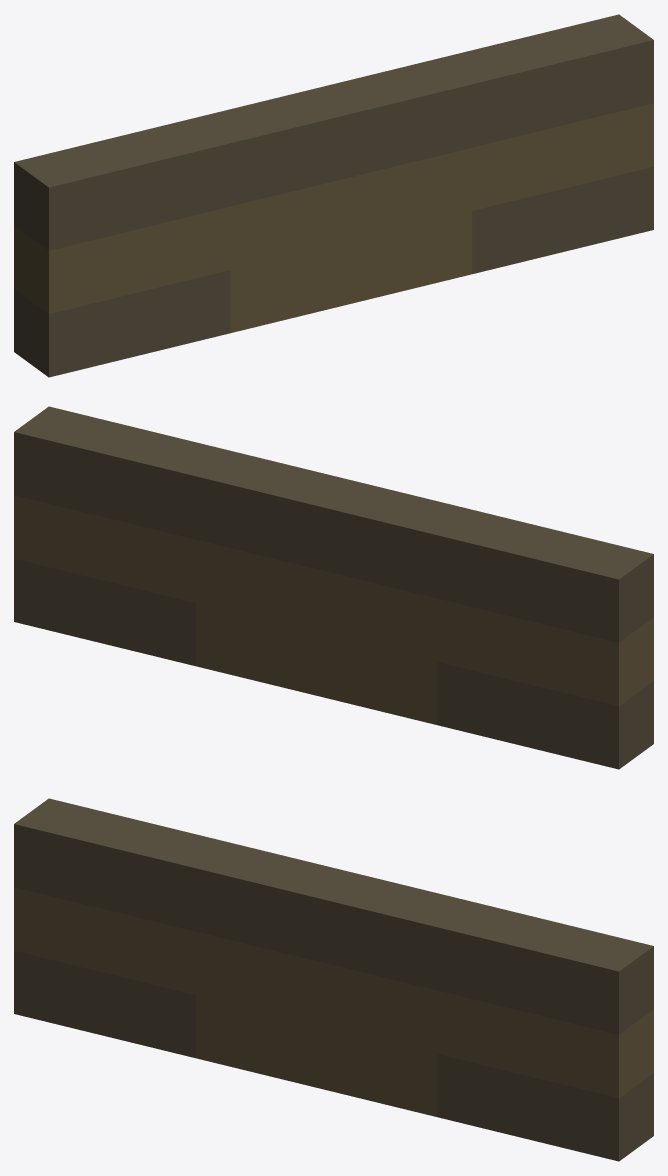
The model's file is scaffold_2_0.DAE.
3 views of the same model, one above another, from view 1: azimuth 30°, elevation 25°; view 2: azimuth 150°, elevation 25°; view 3: azimuth 330°, elevation 25° (orthographic).
Parts seen in each view (by area): view 1: scaffold_2_0; view 2: scaffold_2_0; view 3: scaffold_2_0.
Boxes of the visible parts, left/top/right/bottom form: scaffold_2_0: left=14, top=14, right=653, bottom=377; scaffold_2_0: left=14, top=406, right=653, bottom=769; scaffold_2_0: left=14, top=798, right=653, bottom=1161.
Bounding box in the file's own units: 10 × 1 × 3.
1 material, 1 textured.
